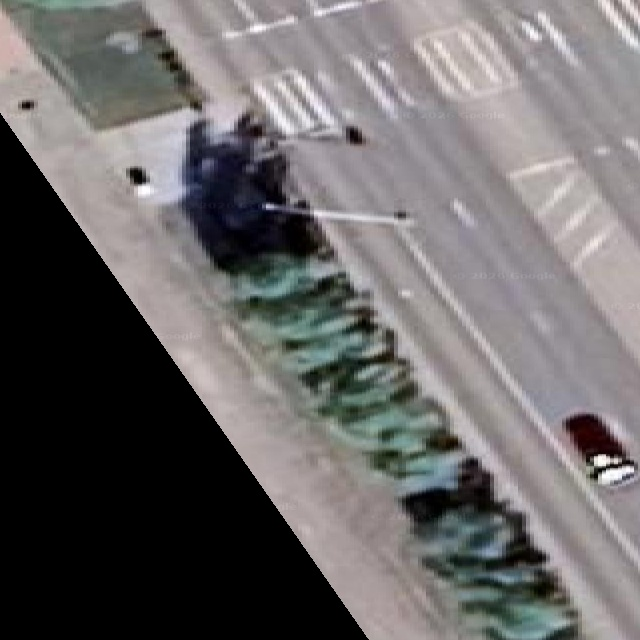car: (564, 414, 639, 486)
